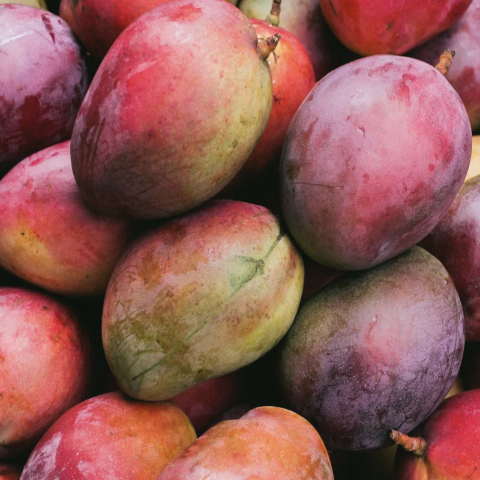mango: (45, 0, 295, 230), (278, 26, 478, 273), (75, 197, 328, 391), (270, 242, 476, 455)
